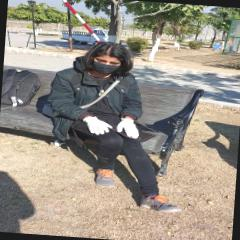gloved: (81, 117, 112, 136), (118, 118, 139, 139)
